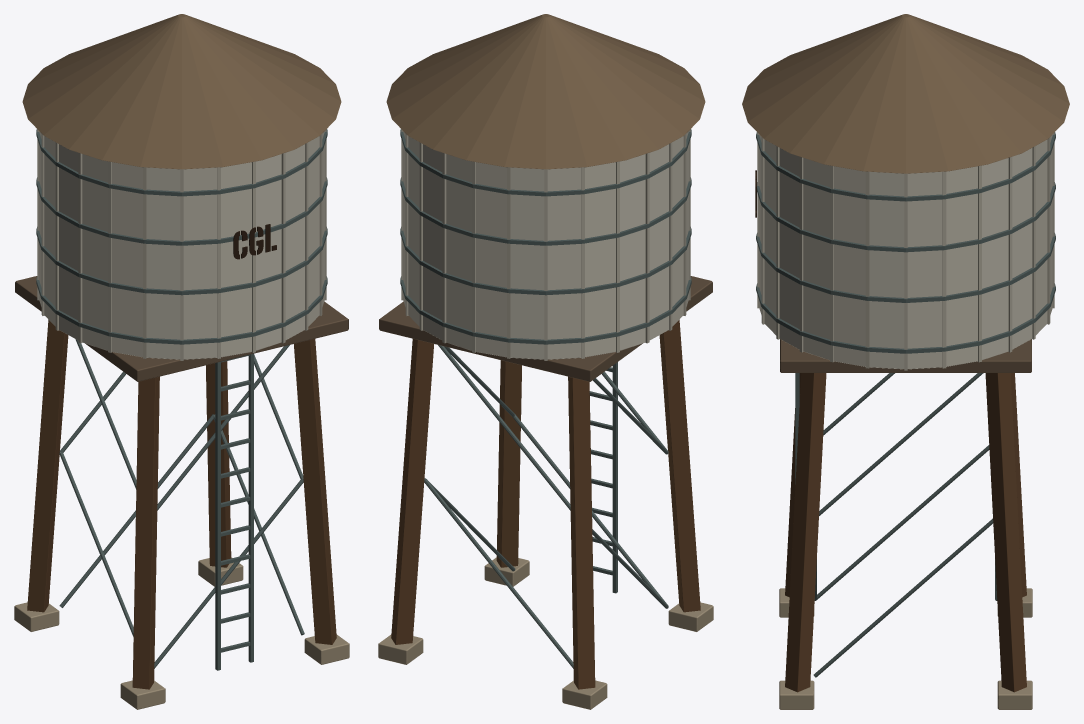
Rendered from WaterTower.glb.
The picture shows the model from 3 angles, left to right: view 1: azimuth 30°, elevation 25°; view 2: azimuth 150°, elevation 25°; view 3: azimuth 270°, elevation 25°; orthographic projection. The views are drawn at different scales.
Visible parts, largest first — view 1: WaterTower.001; view 2: WaterTower.001; view 3: WaterTower.001.
Part boxes in pixels (<box>): WaterTower.001: <box>14,14,349,709</box>; WaterTower.001: <box>378,14,713,709</box>; WaterTower.001: <box>742,14,1069,709</box>.
Bounding box in the file's own units: 4.68 × 10.11 × 4.68.
